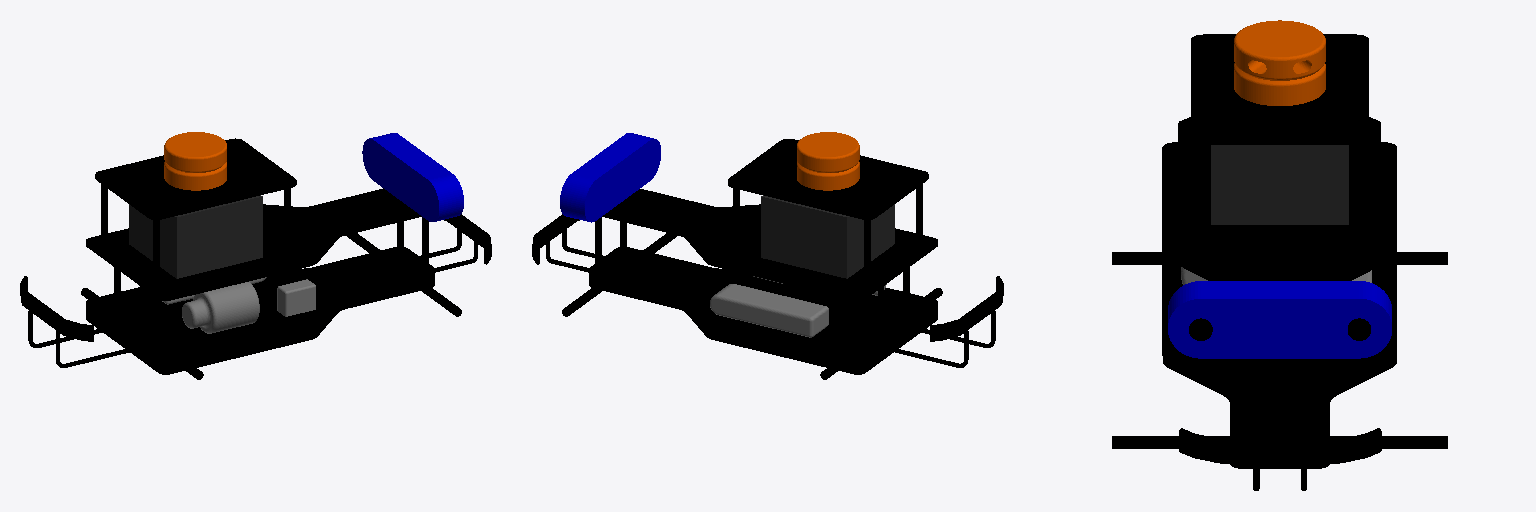
robot.urdf — racecar:
<?xml version="1.0" ?>
<!-- =================================================================================== -->
<!-- |    This document was autogenerated by xacro from racecar.xacro                  | -->
<!-- |    EDITING THIS FILE BY HAND IS NOT RECOMMENDED                                 | -->
<!-- =================================================================================== -->
<robot name="racecar" xmlns:xacro="http://www.ros.org/wiki/xacro">
  <!-- inertial parameter macros -->
  <!-- geometry macros -->
  <!-- transmission macros -->
  <!-- Add chassis and it's inertia link -->
  <link name="base_link">
   <inertial>
      <origin rpy="0 0 0" xyz="0 0 0"/>
      <mass value=".1"/>
      <inertia ixx="0.010609" ixy="0" ixz="0" iyy="0.050409" iyz="0" izz="0.05865"/>
    </inertial>
  </link>
  <link name="chassis">
   <inertial>
      <origin rpy="0 0 0" xyz="-0.03425 0 0.0575"/>
      <mass value=".1"/>
      <inertia ixx="0.010609" ixy="0" ixz="0" iyy="0.050409" iyz="0" izz="0.05865"/>
    </inertial>
    <visual>
      <origin rpy="0 0 0" xyz="-0.03425 0 0.0575"/>
      <geometry>
        <mesh filename="meshes/chassisShort.stl"/>
      </geometry>
      <material name="black"/>
    </visual>
  </link>
  <joint name="base_link_joint" type="fixed">
    <origin rpy="0 0 3.142" xyz="0 0 0"/>
    <parent link="base_link"/>
    <child link="chassis"/>
  </joint>
  <link name="chassis_inertia">
    <inertial>
      <origin rpy="0 0 0" xyz="0.1477 0 0"/>
      <mass value="4.0"/>
      <inertia ixx="0.010609" ixy="0" ixz="0" iyy="0.050409" iyz="0" izz="0.05865"/>
    </inertial>
  </link>
  <joint name="chassis_inertia_joint" type="fixed">
    <origin rpy="0 0 0" xyz="0 0 0"/>
    <parent link="chassis"/>
    <child link="chassis_inertia"/>
  </joint>
  <!-- Add the left rear wheel with its joints and tranmissions -->
  <link name="left_rear_wheel">
    <inertial>
      <origin rpy="0 0 0" xyz="0 0 0"/>
      <mass value="0.34055"/>
      <inertia ixx="0.00026046" ixy="0" ixz="0" iyy="0.00026046" iyz="0" izz="0.00041226"/>
    </inertial>
    <visual>
      <origin rpy="0 0 0" xyz="0 0 0"/>
      <geometry>
        <mesh filename="meshes/left_rear_wheel.obj"/>
      </geometry>
      <material name="white"/>
    </visual>
    <collision>
      <origin rpy="0 0 0" xyz="0 0 0"/>
      <geometry>
        <cylinder length="0.04" radius="0.05"/>
      </geometry>
    </collision>
  </link>
  <joint name="left_rear_wheel_joint" type="continuous">
    <origin rpy="1.5708 0 0" xyz="0.06835 -0.172 0.05"/>
    <parent link="chassis"/>
    <child link="left_rear_wheel"/>
    <axis xyz="0 0 1"/>
    <limit effort="10" velocity="100"/>
  </joint>
  <transmission name="left_rear_wheel_transmission" type="SimpleTransmission">
    <type>transmission_interface/SimpleTransmission</type>
    <joint name="left_rear_wheel_joint">
      <hardwareInterface>EffortJointInterface</hardwareInterface>
    </joint>
    <actuator name="left_rear_wheel_motor">
      <hardwareInterface>EffortJointInterface</hardwareInterface>
      <mechanicalReduction>1</mechanicalReduction>
    </actuator>
  </transmission>
  <!-- Add the right rear wheel with its joints and tranmissions -->
  <link name="right_rear_wheel">
    <inertial>
      <origin rpy="0 0 0" xyz="0 0 0"/>
      <mass value="0.34055"/>
      <inertia ixx="0.00026046" ixy="0" ixz="0" iyy="0.00026046" iyz="0" izz="0.00041226"/>
    </inertial>
    <visual>
      <origin rpy="0 0 0" xyz="0 0 0"/>
      <geometry>
        <mesh filename="meshes/right_rear_wheel.obj"/>
      </geometry>
      <material name="white"/>
    </visual>
    <collision>
      <origin rpy="0 0 0" xyz="0 0 0"/>
      <geometry>
        <cylinder length="0.04" radius="0.05"/>
      </geometry>
    </collision>
  </link>
  <joint name="right_rear_wheel_joint" type="continuous">
    <origin rpy="1.5708 0 0" xyz="0.06835 0.172 0.05"/>
    <parent link="chassis"/>
    <child link="right_rear_wheel"/>
    <axis xyz="0 0 1"/>
    <limit effort="10" velocity="100"/>
  </joint>
  <transmission name="right_rear_wheel_transmission" type="SimpleTransmission">
    <type>transmission_interface/SimpleTransmission</type>
    <joint name="right_rear_wheel_joint">
      <hardwareInterface>EffortJointInterface</hardwareInterface>
    </joint>
    <actuator name="right_rear_wheel_motor">
      <hardwareInterface>EffortJointInterface</hardwareInterface>
      <mechanicalReduction>1</mechanicalReduction>
    </actuator>
  </transmission>
  <!-- Add the left steering hinge with its joints and tranmissions -->
  <link name="left_steering_hinge">
    <inertial>
      <origin rpy="0 0 0" xyz="0 0 0"/>
      <mass value="0.100"/>
      <inertia ixx="4E-06" ixy="0" ixz="0" iyy="4E-06" iyz="0" izz="4E-06"/>
    </inertial>
    <visual>
      <origin rpy="0 0 0" xyz="0 0 0"/>
      <geometry>
        <mesh filename="meshes/left_steering_hinge.STL" scale="1 1 0.888888888"/>
      </geometry>
      <material name="grey"/>
    </visual>
  </link>
  <joint name="left_steering_hinge_joint" type="revolute">
    <origin rpy="0 1.5708 0" xyz="-0.26185 -0.127 0.05"/>
    <parent link="chassis"/>
    <child link="left_steering_hinge"/>
    <axis xyz="1 0 0"/>
    <limit effort="10" lower="-1.0" upper="1.0" velocity="100"/>
  </joint>
  <transmission name="left_steering_hinge_transmission" type="SimpleTransmission">
    <type>transmission_interface/SimpleTransmission</type>
    <joint name="left_steering_hinge_joint">
      <hardwareInterface>EffortJointInterface</hardwareInterface>
    </joint>
    <actuator name="left_steering_hinge_motor">
      <hardwareInterface>EffortJointInterface</hardwareInterface>
      <mechanicalReduction>1</mechanicalReduction>
    </actuator>
  </transmission>
  <!-- Add the right steering hinge with its joints and tranmissions -->
  <link name="right_steering_hinge">
    <inertial>
      <origin rpy="0 0 0" xyz="0 0 0"/>
      <mass value="0.100"/>
      <inertia ixx="4E-06" ixy="0" ixz="0" iyy="4E-06" iyz="0" izz="4E-06"/>
    </inertial>
    <visual>
      <origin rpy="0 0 0" xyz="0 0 0"/>
      <geometry>
        <mesh filename="meshes/right_steering_hinge.STL" scale="1 1 0.888888888"/>
      </geometry>
      <material name="grey"/>
    </visual>
  </link>
  <joint name="right_steering_hinge_joint" type="continuous">
    <origin rpy="0 1.5708 0" xyz="-0.26185 0.127 0.05"/>
    <parent link="chassis"/>
    <child link="right_steering_hinge"/>
    <axis xyz="1 0 0"/>
    <limit effort="10" lower="-1.0" upper="1.0" velocity="100"/>
  </joint>
  <transmission name="right_steering_hinge_transmission" type="SimpleTransmission">
    <type>transmission_interface/SimpleTransmission</type>
    <joint name="right_steering_hinge_joint">
      <hardwareInterface>EffortJointInterface</hardwareInterface>
    </joint>
    <actuator name="right_steering_hinge_motor">
      <hardwareInterface>EffortJointInterface</hardwareInterface>
      <mechanicalReduction>1</mechanicalReduction>
    </actuator>
  </transmission>
  <!-- Add the left front wheel with its joints and tranmissions -->
  <link name="left_front_wheel">
    <inertial>
      <origin rpy="0 0 0" xyz="0 0 0"/>
      <mass value="0.34055"/>
      <inertia ixx="0.00026046" ixy="0" ixz="0" iyy="0.00026046" iyz="0" izz="0.00041226"/>
    </inertial>
    <visual>
      <origin rpy="0 0 0" xyz="0 0 0"/>
      <geometry>
        <mesh filename="meshes/left_front_wheel.obj" scale="1 1 0.888888888"/>
      </geometry>
      <material name="white"/>
    </visual>
    <collision>
      <origin rpy="0 0 0" xyz="0 0 0"/>
      <geometry>
        <cylinder length="0.04" radius="0.05"/>
      </geometry>
    </collision>
  </link>
  <joint name="left_front_wheel_joint" type="continuous">
    <origin rpy="1.5708 0 0" xyz="0.00 -0.03 0.00"/>
    <parent link="left_steering_hinge"/>
    <child link="left_front_wheel"/>
    <axis xyz="0 0 1"/>
    <limit effort="10" velocity="100"/>
  </joint>
  <transmission name="left_front_wheel_transmission" type="SimpleTransmission">
    <type>transmission_interface/SimpleTransmission</type>
    <joint name="left_front_wheel_joint">
      <hardwareInterface>EffortJointInterface</hardwareInterface>
    </joint>
    <actuator name="left_front_wheel_motor">
      <hardwareInterface>EffortJointInterface</hardwareInterface>
      <mechanicalReduction>1</mechanicalReduction>
    </actuator>
  </transmission>
  <!-- Add the left front wheel with its joints and tranmissions -->
  <link name="right_front_wheel">
    <inertial>
      <origin rpy="0 0 0" xyz="0 0 0"/>
      <mass value="0.34055"/>
      <inertia ixx="0.00026046" ixy="0" ixz="0" iyy="0.00026046" iyz="0" izz="0.00041226"/>
    </inertial>
    <visual>
      <origin rpy="0 0 0" xyz="0 0 0"/>
      <geometry>
        <mesh filename="meshes/right_front_wheel.obj" scale="1 1 0.888888888"/>
      </geometry>
      <material name="white"/>
    </visual>
    <collision>
      <origin rpy="0 0 0" xyz="0 0 0"/>
      <geometry>
        <cylinder length="0.04" radius="0.05"/>
      </geometry>
    </collision>
  </link>
  <joint name="right_front_wheel_joint" type="continuous">
    <origin rpy="1.5708 0 0" xyz="0 0.03 0"/>
    <parent link="right_steering_hinge"/>
    <child link="right_front_wheel"/>
    <axis xyz="0 0 1"/>
    <limit effort="10" velocity="100"/>
  </joint>
  <transmission name="right_front_wheel_transmission" type="SimpleTransmission">
    <type>transmission_interface/SimpleTransmission</type>
    <joint name="right_front_wheel_joint">
      <hardwareInterface>EffortJointInterface</hardwareInterface>
    </joint>
    <actuator name="right_front_wheel_motor">
      <hardwareInterface>EffortJointInterface</hardwareInterface>
      <mechanicalReduction>1</mechanicalReduction>
    </actuator>
  </transmission>
  <link name="orin">
    <visual>
      <origin rpy="0 0 0" xyz="0 0 0"/>
      <geometry>
        <mesh filename="meshes/orin.stl"/>
      </geometry>
      <material name="grey"/>
    </visual>
    <collision>
      <origin rpy="0 0 0" xyz="0 0 0"/>
      <geometry>
        <mesh filename="meshes/orin.stl"/>
      </geometry>
    </collision>
    <inertial>
      <origin rpy="0 0 0" xyz="0 0 0"/>
      <mass value="0.130"/>
      <inertia ixx="4E-06" ixy="0" ixz="0" iyy="4E-06" iyz="0" izz="4E-06"/>
    </inertial>
  </link>
  <joint name="orin_joint" type="fixed">
    <origin rpy="0 0 0" xyz="0 0 0.1725"/>
    <parent link="chassis"/>
    <child link="orin"/>
    <axis xyz="0 0 1"/>
  </joint>
  <link name="battery">
    <visual>
      <origin rpy="0 0 0" xyz="0 0 0"/>
      <geometry>
        <mesh filename="meshes/battery.stl"/>
      </geometry>
      <material name="lightgrey"/>
    </visual>
    <collision>
      <origin rpy="0 0 0" xyz="0 0 0"/>
      <geometry>
        <mesh filename="meshes/battery.stl"/>
      </geometry>
    </collision>
    <inertial>
      <origin rpy="0 0 0" xyz="0 0 0"/>
      <mass value="0.130"/>
      <inertia ixx="4E-06" ixy="0" ixz="0" iyy="4E-06" iyz="0" izz="4E-06"/>
    </inertial>
  </link>
  <joint name="battery_joint" type="fixed">
    <origin rpy="0 0 0" xyz="-0.04 -0.05 0.0725"/>
    <parent link="chassis"/>
    <child link="battery"/>
    <axis xyz="0 0 1"/>
  </joint>
  <link name="servo">
    <visual>
      <origin rpy="0 0 0" xyz="0 0 0"/>
      <geometry>
        <mesh filename="meshes/servomotor.stl"/>
      </geometry>
      <material name="lightgrey"/>
    </visual>
    <collision>
      <origin rpy="0 0 0" xyz="0 0 0"/>
      <geometry>
        <mesh filename="meshes/servomotor.stl"/>
      </geometry>
    </collision>
    <inertial>
      <origin rpy="0 0 0" xyz="0 0 0"/>
      <mass value="0.130"/>
      <inertia ixx="4E-06" ixy="0" ixz="0" iyy="4E-06" iyz="0" izz="4E-06"/>
    </inertial>
  </link>
  <joint name="servo_joint" type="fixed">
    <origin rpy="0 0 3.142" xyz="0 0.05 0.085"/>
    <parent link="chassis"/>
    <child link="servo"/>
    <axis xyz="0 0 1"/>
  </joint>
  <link name="dcmotor">
    <visual>
      <origin rpy="0 0 0" xyz="0 0 0"/>
      <geometry>
        <mesh filename="meshes/dcmotor.stl"/>
      </geometry>
      <material name="lightgrey"/>
    </visual>
    <collision>
      <origin rpy="0 0 0" xyz="0 0 0"/>
      <geometry>
        <mesh filename="meshes/dcmotor.stl"/>
      </geometry>
    </collision>
    <inertial>
      <origin rpy="0 0 0" xyz="0 0 0"/>
      <mass value="0.130"/>
      <inertia ixx="4E-06" ixy="0" ixz="0" iyy="4E-06" iyz="0" izz="4E-06"/>
    </inertial>
  </link>
  <joint name="dc_joint" type="fixed">
    <origin rpy="0 0 0" xyz="-0.1 0.05 0.06"/>
    <parent link="chassis"/>
    <child link="dcmotor"/>
    <axis xyz="0 0 1"/>
  </joint>
  <!-- Add Hokuyo laser scanner -->
  <link name="laser">
    <inertial>
      <origin rpy="0 0 0" xyz="0 0 0"/>
      <mass value="0.130"/>
      <inertia ixx="4E-06" ixy="0" ixz="0" iyy="4E-06" iyz="0" izz="4E-06"/>
    </inertial>
    <collision>
      <origin rpy="0 0 0" xyz="0 0 0"/>
      <geometry>
        <mesh filename="meshes/ydlidar.obj"/>
      </geometry>
    </collision>
    <visual>
      <origin rpy="0 0 0" xyz="0 0 0"/>
      <geometry>
        <mesh filename="meshes/ydlidar.obj"/>
        <material color='red'/>
      </geometry>
    </visual>
  </link>
  <joint name="hokuyo_joint" type="fixed">
    <origin rpy="0 0 -1.571" xyz="0 0 0.225"/>
    <parent link="chassis"/>
    <child link="laser"/>
    <axis xyz="0 0 1"/>
  </joint>
  <!-- zed camera -->
  <link name="zed_camera_link">
    <inertial>
      <mass value="1e-5"/>
      <origin rpy="0 0 0" xyz="0 0 0"/>
      <inertia ixx="1e-6" ixy="0" ixz="0" iyy="1e-6" iyz="0" izz="1e-6"/>
    </inertial>
    <collision>
      <origin rpy="0 0 0" xyz="0 0 0"/>
      <geometry>
        <mesh filename="meshes/zed2camera.stl"/>
      </geometry>
    </collision>
    <visual>
      <origin rpy="0 0 0" xyz="0 0 0"/>
      <geometry>
        <mesh filename="meshes/zed2camera.stl"/>
      </geometry>
      <material name="blue"/>
    </visual>
  </link>
  <joint name="zed_camera_joint" type="fixed">
    <origin rpy="0 0 1.571" xyz="-0.277725 0 0.16"/>
    <parent link="chassis"/>
    <child link="zed_camera_link"/>
    <axis xyz="0 0 1"/>
    <!-- <limit lower="0.0" upper="0.0" effort="0.0" velocity="0.0" /> -->
  </joint>
  <link name="zed_camera_eyes">
    <inertial>
      <mass value="1e-5"/>
      <origin rpy="0 0 0" xyz="0 0 0"/>
      <inertia ixx="1e-6" ixy="0" ixz="0" iyy="1e-6" iyz="0" izz="1e-6"/>
    </inertial>
    <collision>
      <origin rpy="0 0 0" xyz="0 0 0"/>
      <geometry>
        <mesh filename="meshes/zed2cameraeyes.stl"/>
      </geometry>
    </collision>
    <visual>
      <origin rpy="0 0 0" xyz="0 0 0"/>
      <geometry>
        <mesh filename="meshes/zed2cameraeyes.stl"/>
      </geometry>
      <material name="black"/>
    </visual>
  </link>
  <joint name="zed_camera_eye_joint" type="fixed">
    <origin rpy="0 0 1.571" xyz="-0.2946 0 0.16"/>
    <parent link="chassis"/>
    <child link="zed_camera_eyes"/>
    <axis xyz="0 0 1"/>
    <!-- <limit lower="0.0" upper="0.0" effort="0.0" velocity="0.0" /> -->
  </joint>
  <!-- zed camera lenses -->
  <!-- It seems these have to have a non-zero mass to have a camera attached? -->
  <link name="camera_link">
    <!-- this needs to match the name in zed_wrapper/zed_tf.launch -->
    <inertial>
      <mass value="1e-5"/>
      <origin rpy="0 0 0" xyz="0 0 0"/>
      <inertia ixx="1e-6" ixy="0" ixz="0" iyy="1e-6" iyz="0" izz="1e-6"/>
    </inertial>
  </link>
  <link name="zed_camera_right_link">
    <inertial>
      <mass value="1e-5"/>
      <origin rpy="0 0 0" xyz="0 0 0"/>
      <inertia ixx="1e-6" ixy="0" ixz="0" iyy="1e-6" iyz="0" izz="1e-6"/>
    </inertial>
  </link>
  <joint name="zed_camera_left_joint" type="fixed">
    <origin rpy="0 0 0" xyz="0 0.06 0"/>
    <parent link="zed_camera_link"/>
    <child link="camera_link"/>
    <axis xyz="0 0 1"/>
  </joint>
  <joint name="zed_camera_right_joint" type="fixed">
    <origin rpy="0 0 0" xyz="0 -0.06 0"/>
    <parent link="zed_camera_link"/>
    <child link="zed_camera_right_link"/>
    <axis xyz="0 0 1"/>
  </joint>
  <!-- Add the remaining xacros -->
  <!-- Gazebo references -->
  <gazebo reference="chassis">
    <mu1 value="0.0"/>
    <mu2 value="0.0"/>
    <kp value="10000000.0"/>
    <kd value="1.0"/>
    <material>Gazebo/Blue</material>
  </gazebo>
  <gazebo reference="left_rear_wheel">
    <mu1 value="1.0"/>
    <mu2 value="1.0"/>
    <kp value="10000000.0"/>
    <kd value="1.0"/>
    <fdir1 value="1 0 0"/>
    <material>Gazebo/Black</material>
  </gazebo>
  <gazebo reference="right_rear_wheel">
    <mu1 value="1.0"/>
    <mu2 value="1.0"/>
    <kp value="10000000.0"/>
    <kd value="1.0"/>
    <fdir1 value="1 0 0"/>
    <material>Gazebo/Black</material>
  </gazebo>
  <gazebo reference="left_front_wheel">
    <mu1 value="1.0"/>
    <mu2 value="1.0"/>
    <kp value="10000000.0"/>
    <kd value="1.0"/>
    <fdir1 value="0 0 1"/>
    <material>Gazebo/Black</material>
  </gazebo>
  <gazebo reference="right_front_wheel">
    <mu1 value="1.0"/>
    <mu2 value="1.0"/>
    <kp value="10000000.0"/>
    <kd value="1.0"/>
    <fdir1 value="0 0 1"/>
    <material>Gazebo/Black</material>
  </gazebo>
  <!-- Gazebo plugins -->
  <gazebo>
    <plugin filename="libgazebo_ros_control.so" name="gazebo_ros_control">
      <robotNamespace>/racecar</robotNamespace>
      <robotSimType>gazebo_ros_control/DefaultRobotHWSim</robotSimType>
    </plugin>
  </gazebo>
  <gazebo reference="laser">
    <material>Gazebo/Red</material>
    <sensor name="hokuyo_sensor" type="ray">
      <pose>0 0 0.0124 0 0 0</pose>
      <visualize>true</visualize>
      <update_rate>10</update_rate>
      <ray>
        <scan>
          <horizontal>
            <samples>360</samples>
            <resolution>1</resolution>
            <min_angle>-3.14</min_angle>
            <max_angle>3.14</max_angle>
          </horizontal>
        </scan>
        <range>
          <min>0.3</min>
          <max>12.0</max>
          <resolution>0.01</resolution>
        </range>
        <noise>
          <mean>0.0</mean>
          <stddev>0.01</stddev>
        </noise>
      </ray>
      <plugin filename="libgazebo_ros_ray_sensor.so" name="gazebo_ros_hokuyo_controller">
        <topicName>~/out:=scan</topicName>
        <output_type>sensor_msgs/LaserScan</output_type>
        <frameName>laser</frameName>
      </plugin>
    </sensor>
  </gazebo>
  <gazebo reference="camera_link">
    <sensor name="zed_camera_left_sensor" type="camera">
      <update_rate>30.0</update_rate>
      <!-- math.atan(320 / 687.8065795898438) * 2 -->
      <camera name="zed_camera_left_camera">
        <horizontal_fov>0.8709216071359963</horizontal_fov>
        <image>
          <width>640</width>
          <height>480</height>
          <format>B8G8R8</format>
        </image>
        <clip>
          <near>0.02</near>
          <far>300</far>
        </clip>
        <noise>
          <type>gaussian</type>
          <mean>0.0</mean>
          <stddev>0.007</stddev>
        </noise>
      </camera>
      <plugin filename="libgazebo_ros_camera.so" name="camera_controller">
        <alwaysOn>true</alwaysOn>
        <updateRate>30.0</updateRate>
        <cameraName>/camera/zed</cameraName>
        <imageTopicName>rgb/image_rect_color</imageTopicName>
        <cameraInfoTopicName>rgb/camera_info</cameraInfoTopicName>
        <frameName>camera_link</frameName>
        <hackBaseline>0</hackBaseline>
        <!-- set this to 0.12 for the second camera -->
        <distortionK1>0.0</distortionK1>
        <distortionK2>0.0</distortionK2>
        <distortionK3>0.0</distortionK3>
        <distortionT1>0.0</distortionT1>
        <distortionT2>0.0</distortionT2>
      </plugin>
    </sensor>
  </gazebo>

  <material name="white">
    <color rgba="1. 1. 1. 1.0"/>
  </material>
  <material name="black">
    <color rgba="0. 0. 0. 1.0"/>
  </material>
  <material name="blue">
    <color rgba="0.0 0.0 0.8 1.0"/>
  </material>
  <material name="green">
    <color rgba="0.0 0.8 0.0 1.0"/>
  </material>
  <material name="grey">
    <color rgba="0.2 0.2 0.2 1.0"/>
  </material>
  <material name="lightgrey">
    <color rgba="0.5 0.5 0.5 1.0"/>
  </material>
  <material name="orange">
    <color rgba="1.0 0.423529411765 0.0392156862745 1.0"/>
  </material>
  <material name="brown">
    <color rgba="0.870588235294 0.811764705882 0.764705882353 1.0"/>
  </material>
  <material name="red">
    <color rgba="0.8 0.0 0.0 1.0"/>
  </material>
</robot>

--- Render facts (derived) ---
3 views of the same robot in one strip: view 1: azimuth 30°, elevation 25°; view 2: azimuth 150°, elevation 25°; view 3: azimuth 270°, elevation 25° (orthographic).
Model racecar with 18 links and 17 joints (1 revolute, 5 continuous, 11 fixed), rooted at base_link, posed all joints at 0.
Links seen in each view (by area): view 1: chassis, orin, zed_camera_link, laser, servo, dcmotor; view 2: chassis, orin, zed_camera_link, battery, laser; view 3: chassis, zed_camera_link, orin, laser, zed_camera_eyes.
Boxes of the visible links, x1=… form: chassis: x1=20, y1=138, x2=491, y2=379; orin: x1=129, y1=195, x2=262, y2=278; zed_camera_link: x1=362, y1=133, x2=463, y2=221; laser: x1=164, y1=132, x2=226, y2=190; servo: x1=182, y1=282, x2=259, y2=333; dcmotor: x1=277, y1=279, x2=315, y2=316; chassis: x1=532, y1=139, x2=1003, y2=379; orin: x1=761, y1=195, x2=894, y2=278; zed_camera_link: x1=560, y1=133, x2=660, y2=222; battery: x1=710, y1=284, x2=828, y2=337; laser: x1=797, y1=132, x2=859, y2=190; chassis: x1=1112, y1=34, x2=1447, y2=490; zed_camera_link: x1=1168, y1=281, x2=1391, y2=358; orin: x1=1211, y1=145, x2=1348, y2=224; laser: x1=1234, y1=20, x2=1325, y2=105; zed_camera_eyes: x1=1189, y1=318, x2=1370, y2=340.
Bounding box of the posed robot: 0.546 × 0.2541 × 0.225 m (x, y, z).
8 mesh visuals loaded from 14 distinct referenced files (7 binary STL, 1 OBJ); not drawn: 6 (reference not matched to a file when rendering).
